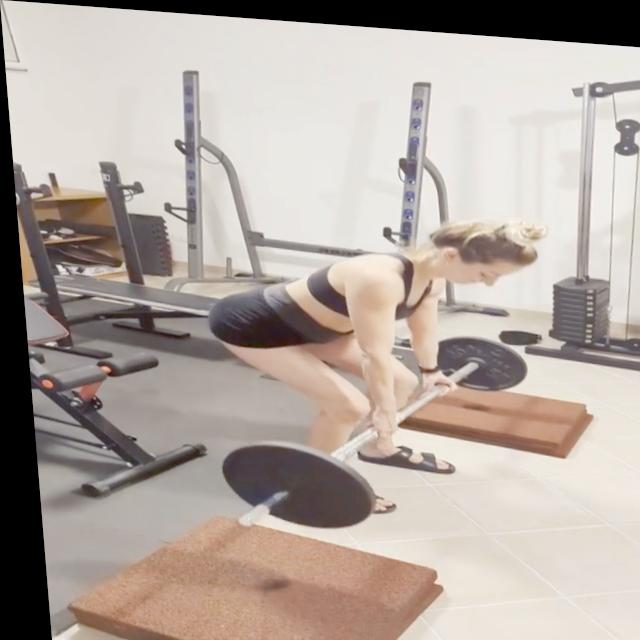barbell: (208, 432, 375, 539)
